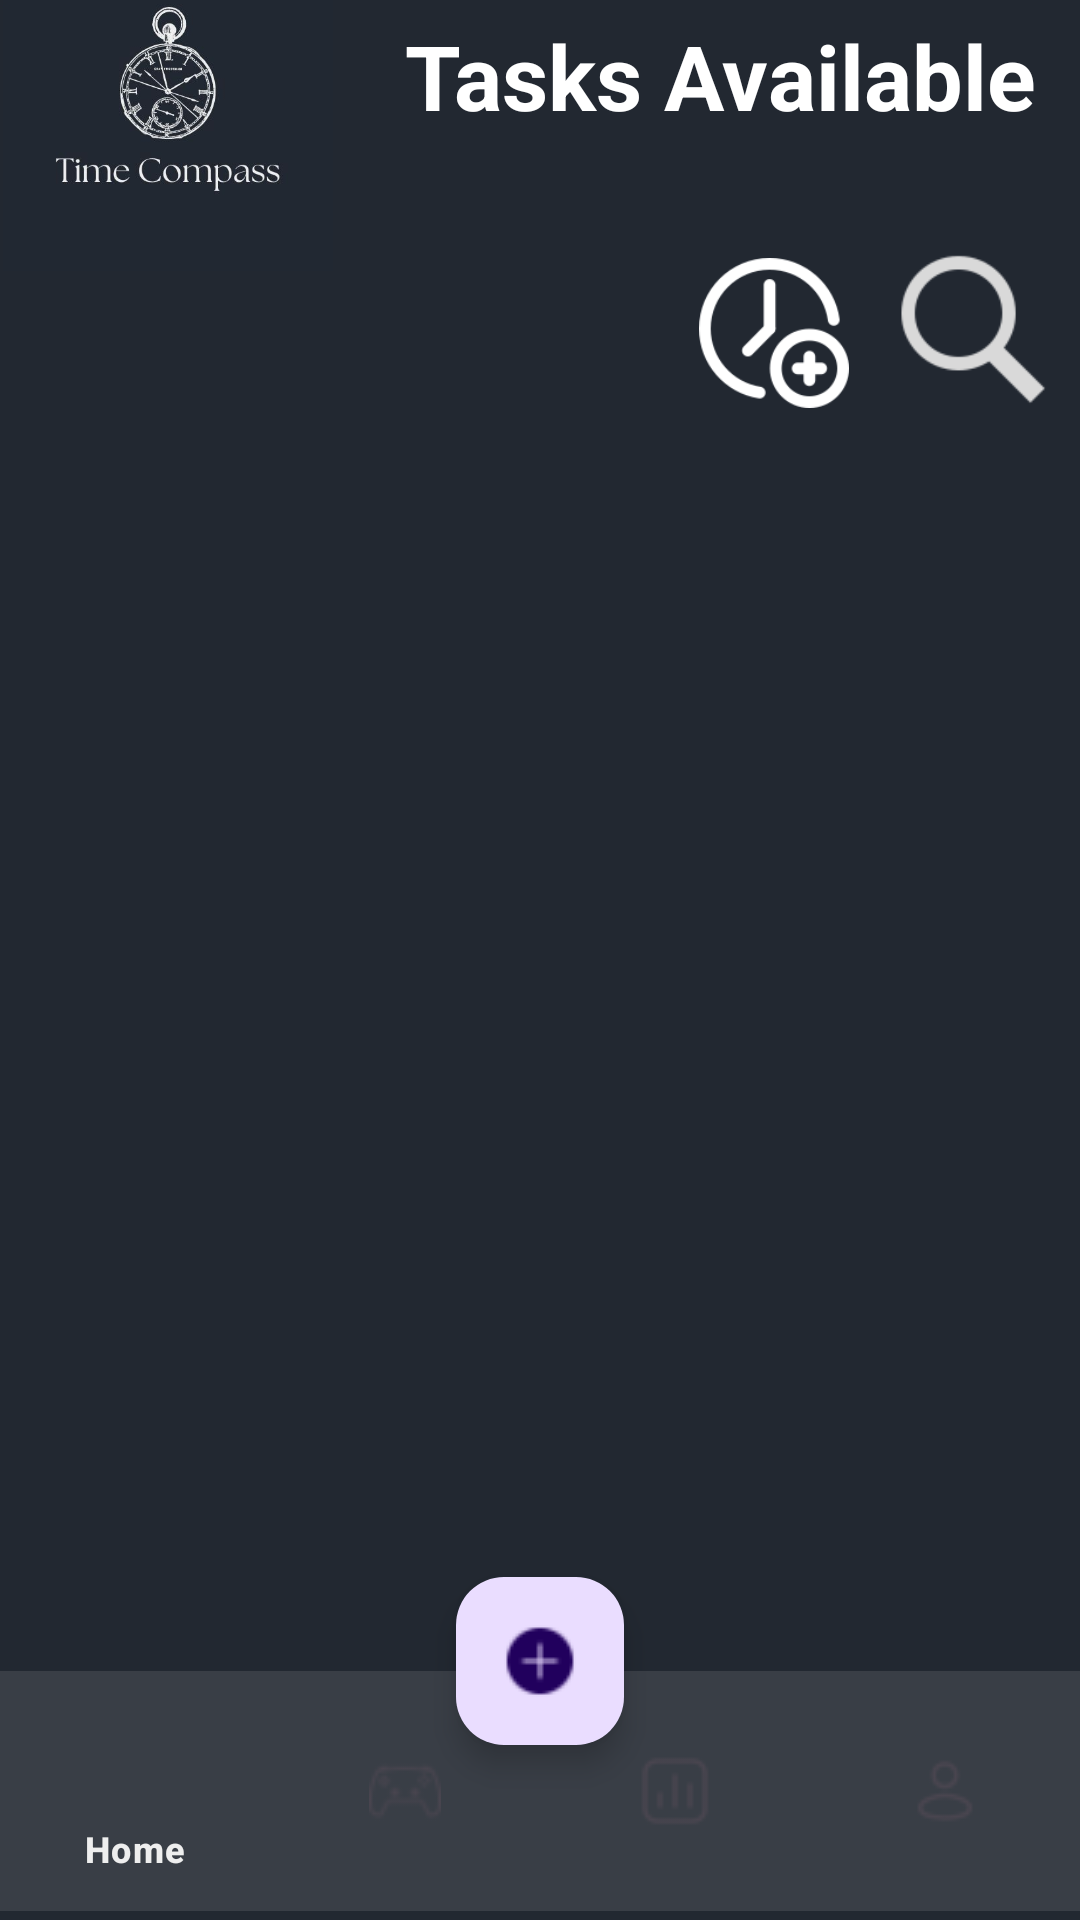

Icon click points for this 1080px x 1920px phone screenshot, format [x,y]:
plus: [540,1661]
search: [973,329]
timer clock: [774,333]
